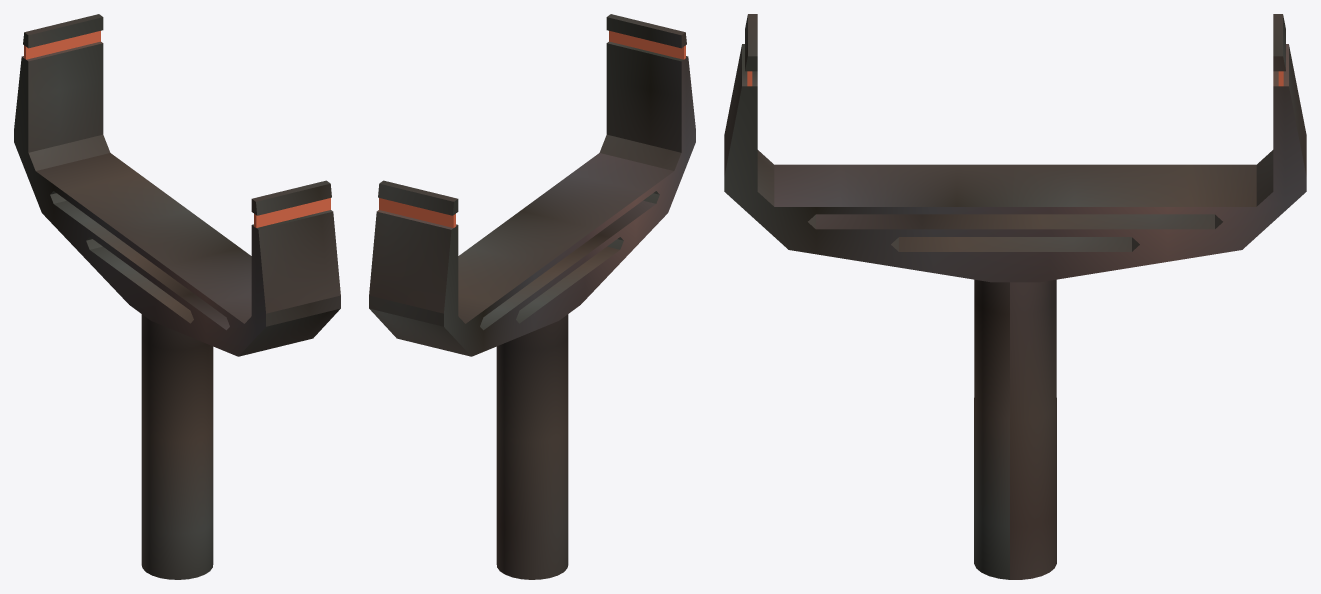
Rendered from Greifer.obj.
3 views of the same model, side by side, from view 1: azimuth 30°, elevation 25°; view 2: azimuth 150°, elevation 25°; view 3: azimuth 270°, elevation 25° (orthographic). The views are drawn at different scales.
Parts seen in each view (by area): view 1: Solid1, Solid1:1, Solid1:2; view 2: Solid1, Solid1:2, Solid1:1; view 3: Solid1.
Boxes of the visible parts, x1=… form: Solid1: x1=14, y1=14, x2=340, y2=579; Solid1:1: x1=254, y1=198, x2=330, y2=227; Solid1:2: x1=24, y1=31, x2=100, y2=59; Solid1: x1=369, y1=14, x2=695, y2=579; Solid1:2: x1=379, y1=198, x2=455, y2=227; Solid1:1: x1=609, y1=31, x2=685, y2=59; Solid1: x1=724, y1=14, x2=1306, y2=579.
Bounding box in the file's own units: 0.0236 × 0.1378 × 0.1378.
2 materials, 1 textured.
